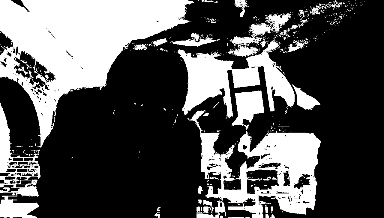H: (220, 65, 272, 115)
